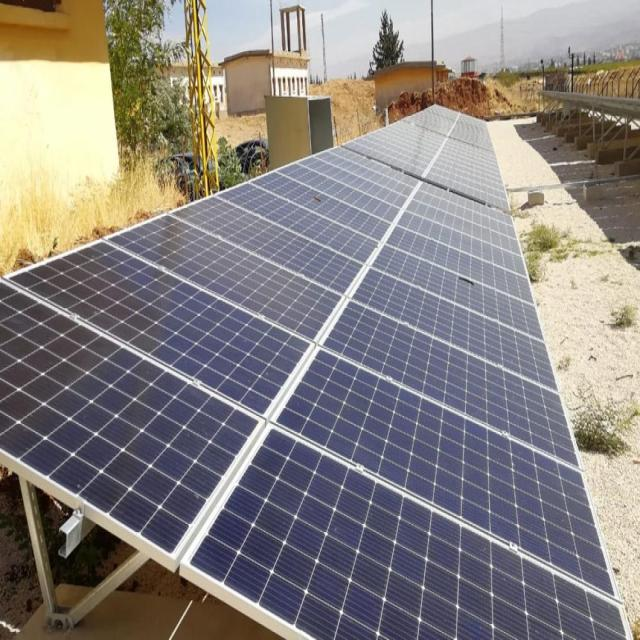Non Defective: (13, 275, 362, 403)
